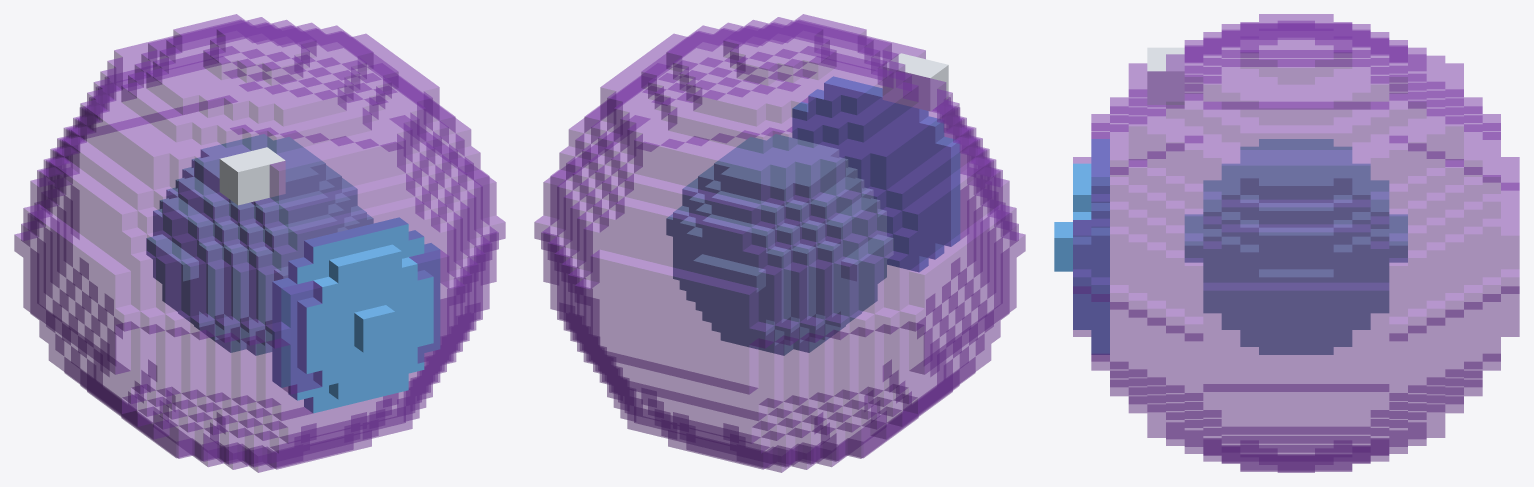
The model's file is mana_pearl.glb.
The picture shows the model from 3 angles, left to right: view 1: azimuth 30°, elevation 25°; view 2: azimuth 150°, elevation 25°; view 3: azimuth 270°, elevation 25°; orthographic projection.
Visible parts, largest first — view 1: mana_pearl:compound; view 2: mana_pearl:compound; view 3: mana_pearl:compound.
Part boxes in pixels (box(x1,y1,x2,y2)): mana_pearl:compound: box(14, 14, 505, 472); mana_pearl:compound: box(534, 14, 1025, 472); mana_pearl:compound: box(1054, 14, 1519, 472).
Size of the model in its own units: 0.048 by 0.048 by 0.05.
